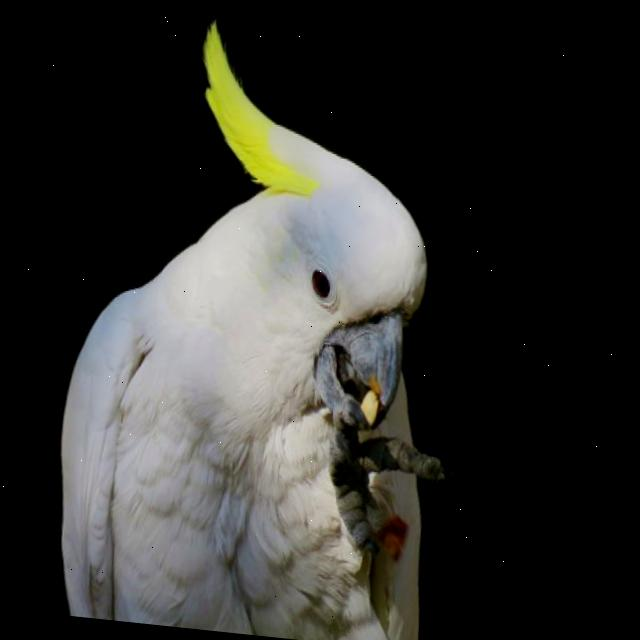Kakatua Putih: (5, 0, 527, 640)
